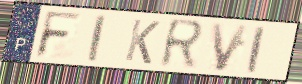F: (33, 9, 84, 60)
I: (245, 24, 267, 76), (86, 13, 108, 64)
K: (122, 17, 163, 67)
R: (157, 17, 207, 72)
V: (209, 21, 251, 73)
